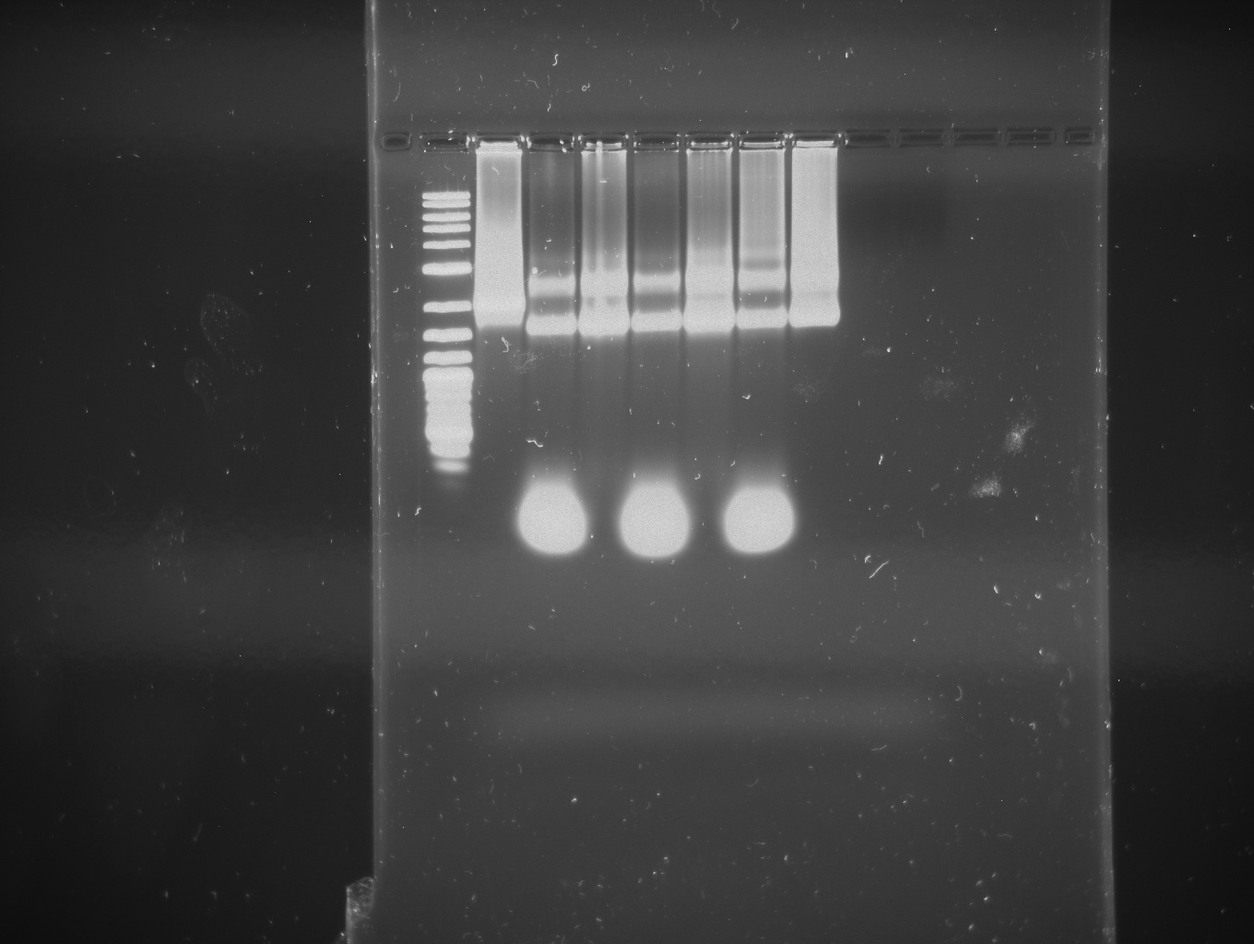Lane: (636, 124, 687, 944), (793, 129, 844, 944), (477, 129, 527, 944), (531, 124, 580, 944), (846, 124, 894, 944), (740, 124, 786, 944), (583, 127, 629, 944), (688, 127, 734, 944)
ladder: (415, 124, 477, 944)
